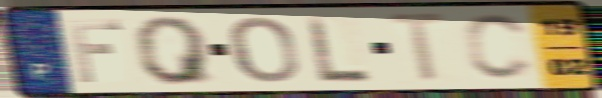C: (461, 11, 538, 83)
F: (64, 18, 126, 85)
L: (303, 14, 374, 85)
O: (226, 14, 303, 85)
Q: (131, 14, 219, 87)
T: (384, 10, 455, 86)
